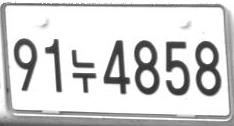1: (41, 39, 67, 91)
4: (102, 39, 131, 94)
5: (165, 41, 190, 95)
8: (133, 39, 160, 95), (195, 40, 221, 96)
9: (13, 37, 37, 91)
누: (71, 49, 96, 93)
